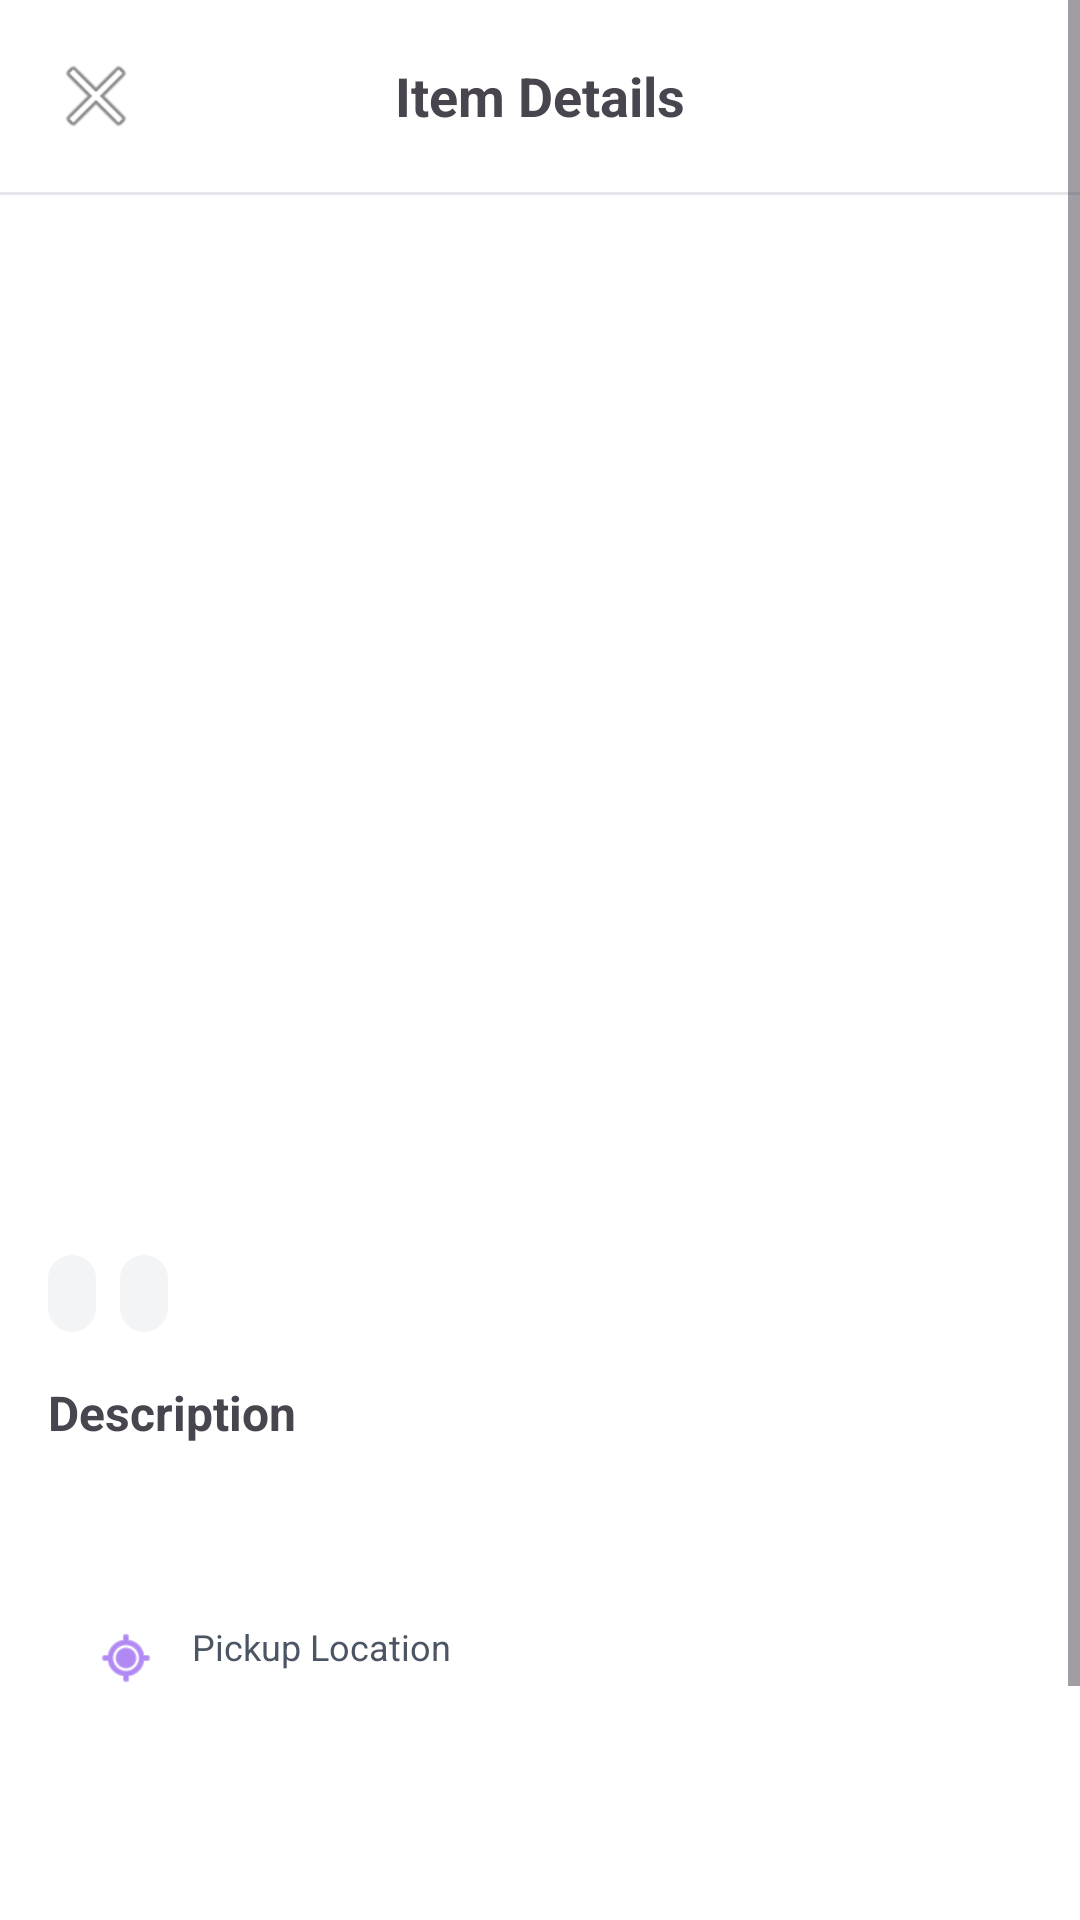

Named icons in this screenshot (1080px x 1920px) and their centers, point (x, y):
close clear cancel: point (96, 96)
mylocation: point (126, 1658)
